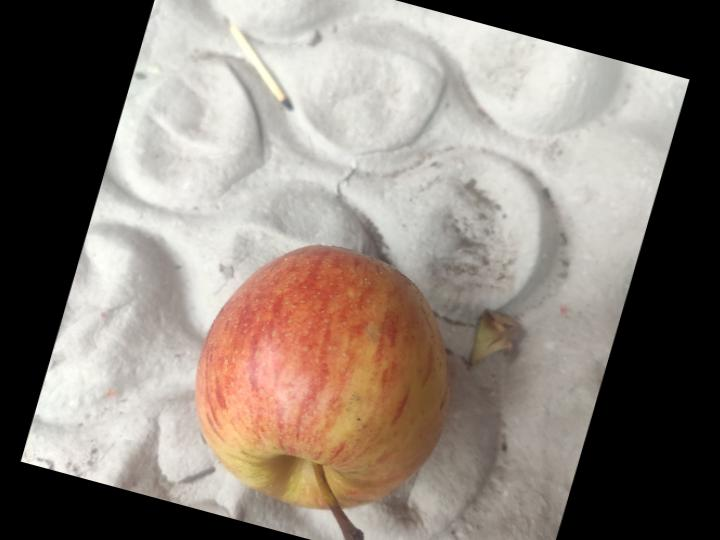apple: (195, 244, 448, 540)
bruise_discoloration: (225, 447, 301, 498), (325, 467, 370, 501)
